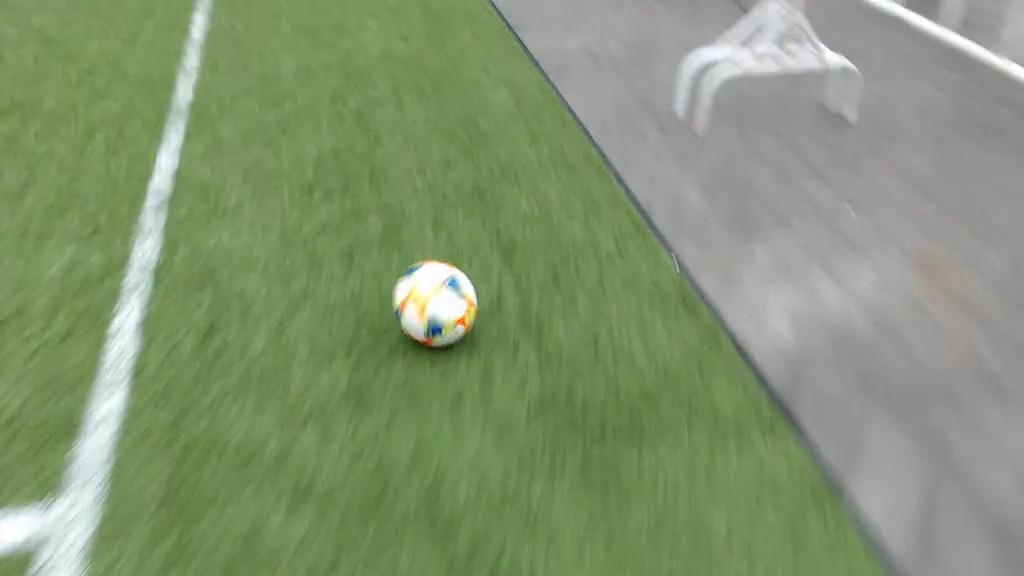ball: (394, 261, 475, 346)
